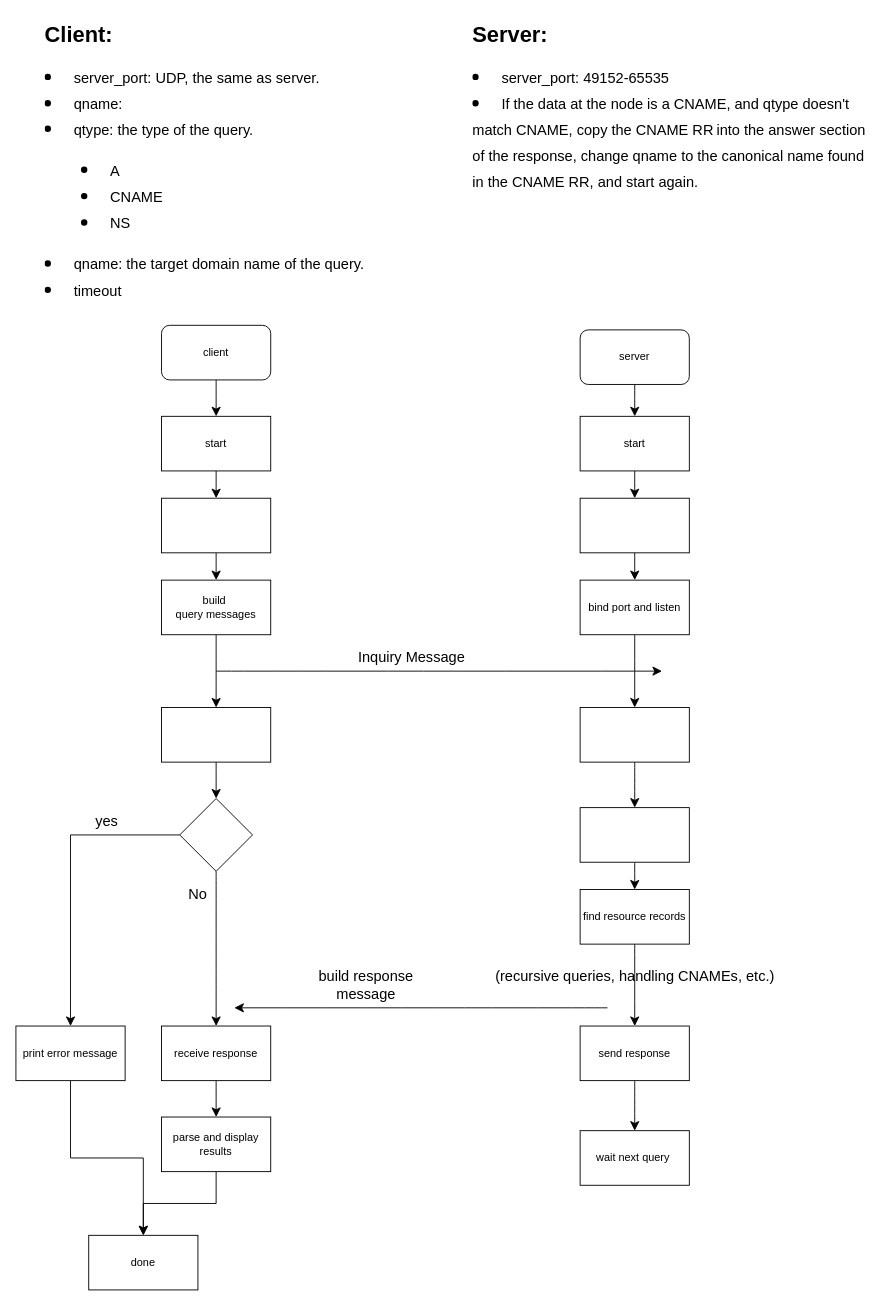
Image size: 887x1306. Some labels were removed from this diagram. The centre of each missing label's shape, as x and y in pixels:
"get user input" belongs at point 216,525.
"parsing query messages" belongs at point 634,834.
"read master.txt" belongs at point 634,525.
"receive client queries" belongs at point 634,734.
"timeout" belongs at point 216,834.
"wait" belongs at point 216,734.
